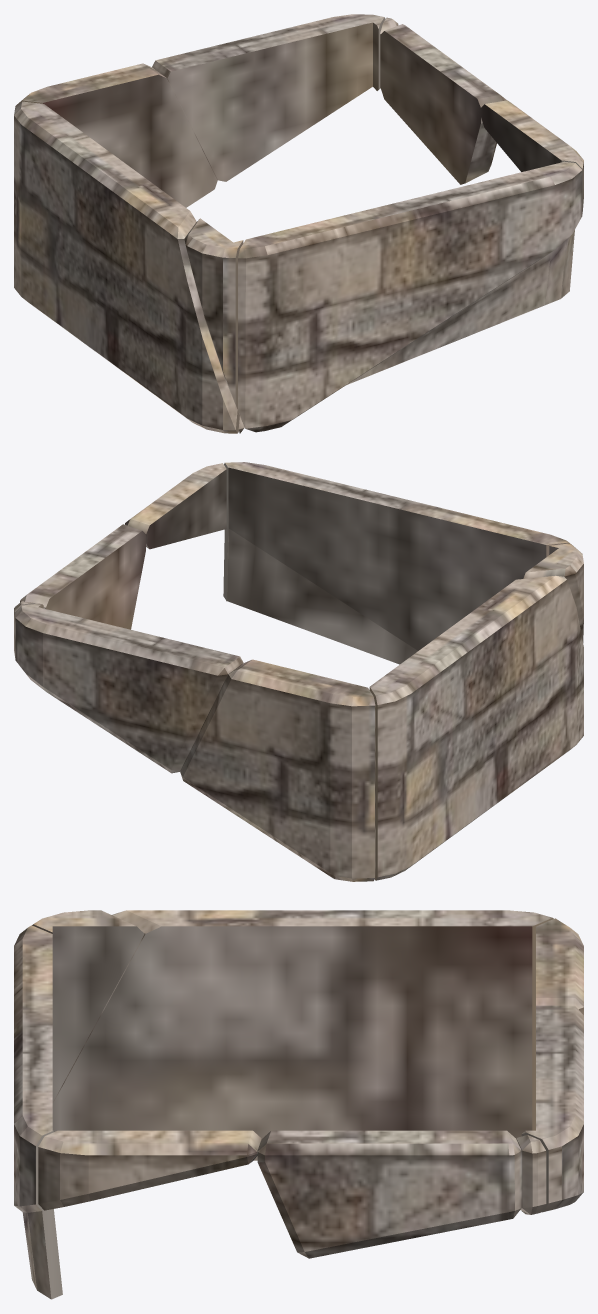
Rendered from Column_BB.gltf.
3 renders of one model, top to bottom at view 1: azimuth 30°, elevation 25°; view 2: azimuth 150°, elevation 25°; view 3: azimuth 270°, elevation 25°, orthographic. The views are drawn at different scales.
Parts seen in each view (by area): view 1: Column_BB, Column_BB.002, Column_BB.001, Column_BB.008, Column_BB.004, Column_BB.010, Column_BB.005, Column_BB.006; view 2: Column_BB.002, Column_BB, Column_BB.008, Column_BB.001, Column_BB.010, Column_BB.004, Column_BB.006, Column_BB.005; view 3: Column_BB.002, Column_BB.004, Column_BB.006, Column_BB, Column_BB.005, Column_BB.001, Column_BB.008, Column_BB.010, Column_BB.007.
Boxes of the visible parts, x1,y1,x2,y2 form: Column_BB: [238, 161, 582, 432]; Column_BB.002: [14, 101, 239, 433]; Column_BB.001: [152, 14, 385, 181]; Column_BB.008: [15, 63, 217, 207]; Column_BB.004: [380, 24, 506, 184]; Column_BB.010: [347, 230, 574, 384]; Column_BB.005: [184, 218, 243, 409]; Column_BB.006: [481, 100, 583, 213]; Column_BB.002: [369, 575, 583, 880]; Column_BB: [224, 462, 575, 650]; Column_BB.008: [180, 659, 375, 881]; Column_BB.001: [14, 603, 243, 773]; Column_BB.010: [223, 526, 417, 664]; Column_BB.004: [20, 524, 145, 629]; Column_BB.006: [125, 463, 226, 549]; Column_BB.005: [523, 543, 583, 642]; Column_BB.002: [52, 910, 553, 1160]; Column_BB.004: [257, 1130, 521, 1258]; Column_BB.006: [38, 1130, 261, 1210]; Column_BB: [14, 925, 53, 1212]; Column_BB.005: [32, 910, 144, 1102]; Column_BB.001: [521, 1005, 583, 1214]; Column_BB.008: [536, 918, 583, 1015]; Column_BB.010: [22, 1209, 62, 1299]; Column_BB.007: [516, 1135, 546, 1214].
Size of the model in its own units: 2 by 0.9072 by 2.
Materials: 1 (1 with a texture image).
